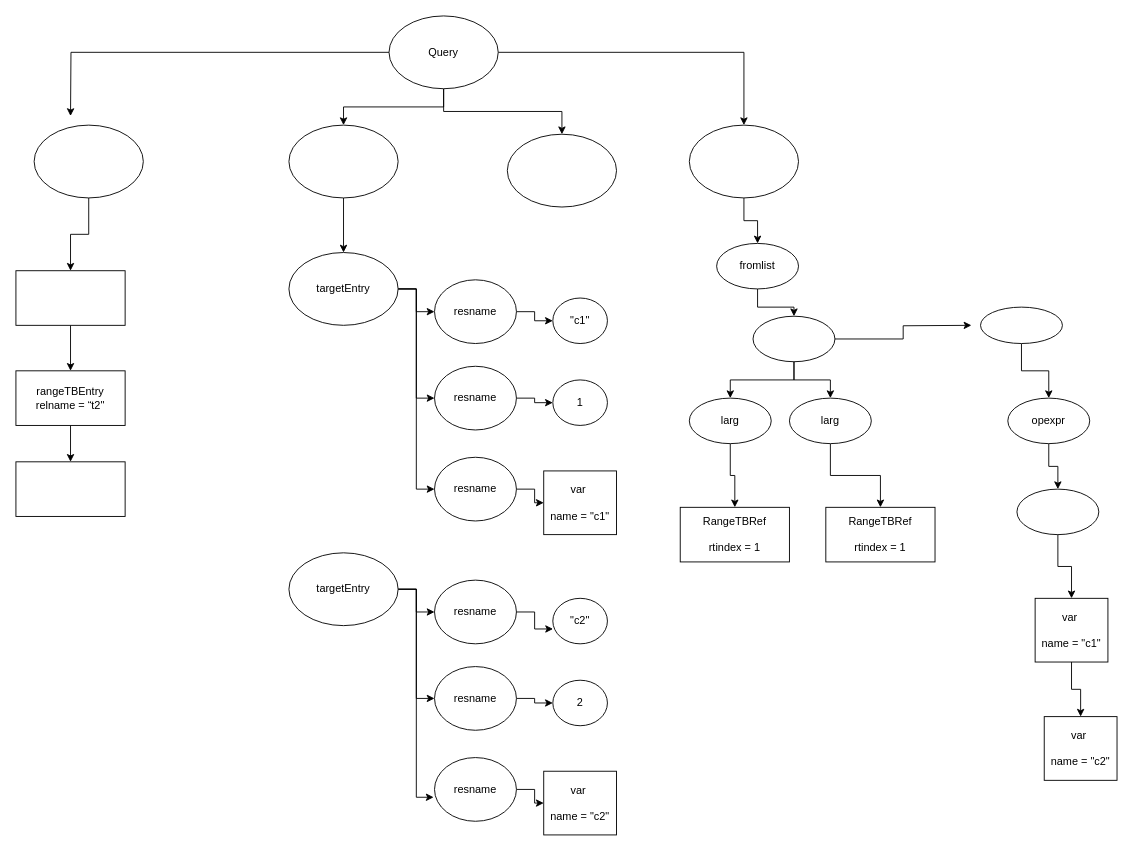
The diagram is 1133 pixels wide and 851 high, and some of its shapes have lost their labels. The centre of each missing label's shape, as x and y in pixels:
args: the point at 1057,511
fromexpr: the point at 743,161
joinExpr: the point at 793,338
jointree: the point at 561,170
quals: the point at 1021,325
rangeTBEntry join_type = JOIN_INNER: the point at 70,488
rangeTBEntry relname = “t1": the point at 70,297
rtable: the point at 88,161
targetList: the point at 343,161
